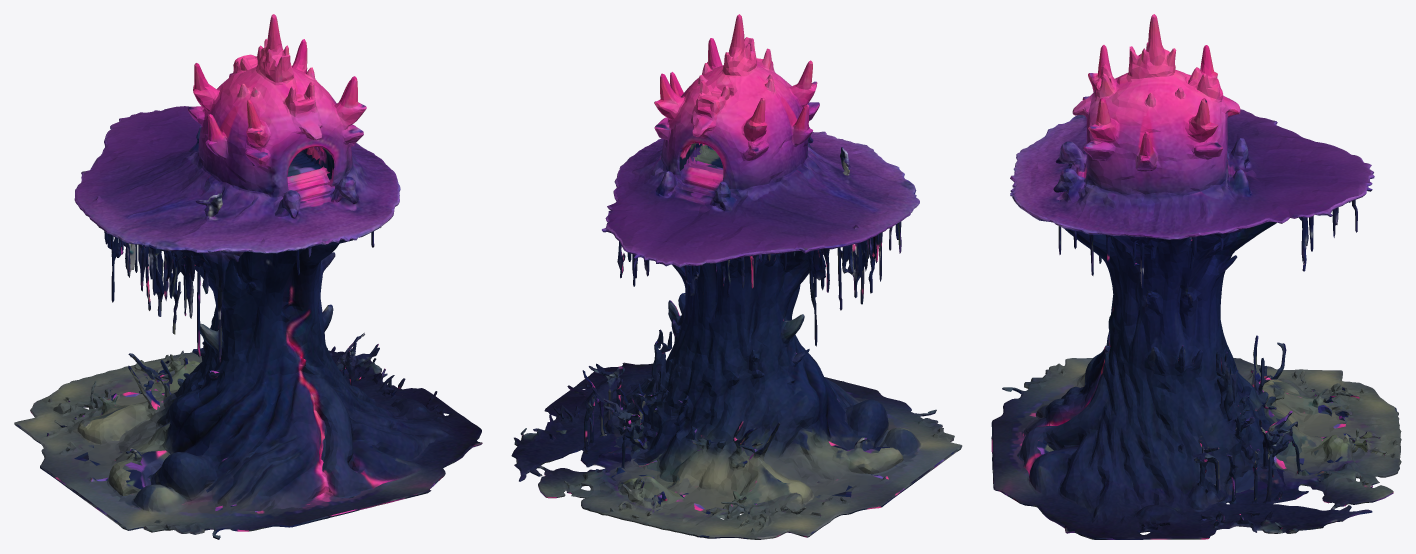
Rendered from support-column-generated-2026-05-17T19-04-08-179Z.glb.
3 renders of one model, left to right at view 1: azimuth 30°, elevation 25°; view 2: azimuth 150°, elevation 25°; view 3: azimuth 270°, elevation 25°, orthographic. The views are drawn at different scales.
Visible parts, largest first — view 1: temp_mesh.ply; view 2: temp_mesh.ply; view 3: temp_mesh.ply.
Part boxes in pixels (<box>): temp_mesh.ply: <box>14,14,482,539</box>; temp_mesh.ply: <box>511,14,962,539</box>; temp_mesh.ply: <box>991,14,1401,539</box>.
Size of the model in its own units: 1.74 by 1.97 by 1.67.
Materials: 1 (1 with a texture image).
